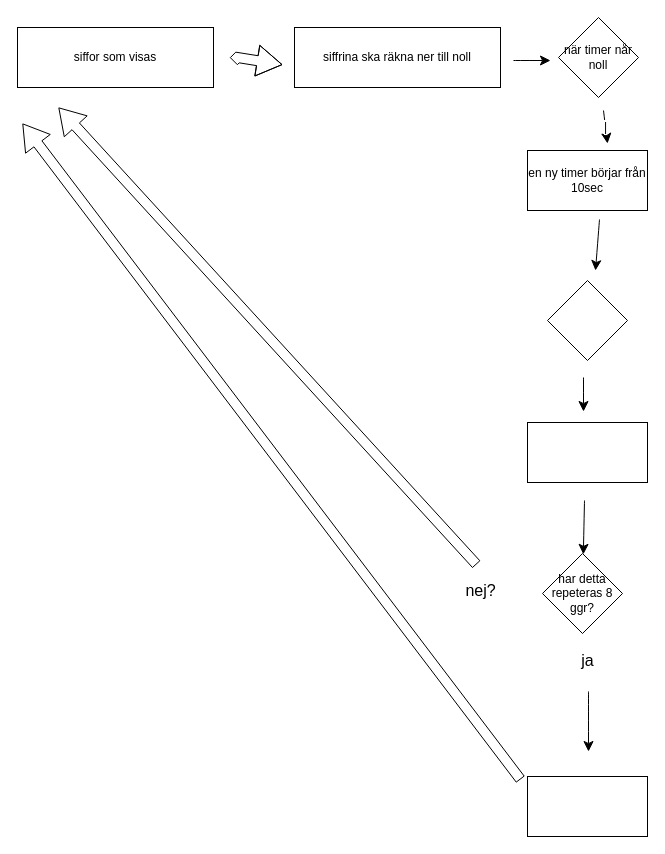
The diagram is 665 pixels wide and 854 high, and some of its shapes have lost their labels. The box of each missing label's shape, as (x1, y1, x2, y2) in pixels:
när den timern är slut: (546, 280, 628, 360)
reset knapp: (526, 776, 648, 836)
timer på 20 sec räknar ner: (526, 422, 648, 482)
